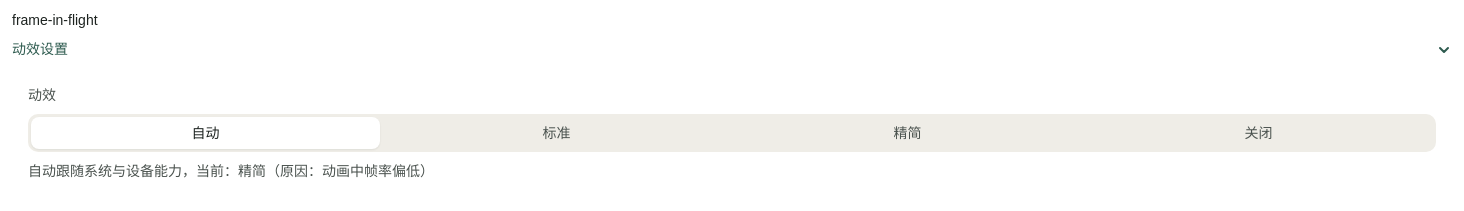
Test: MotionProvider in-flight lifetime › preserves the completed automatic result across manual full and automatic reset
The width and height of the screenshot is (1464, 211).
Click the radio button labelled "标准".
click(556, 133)  # box top-left (382, 117), bottom-right (731, 149)
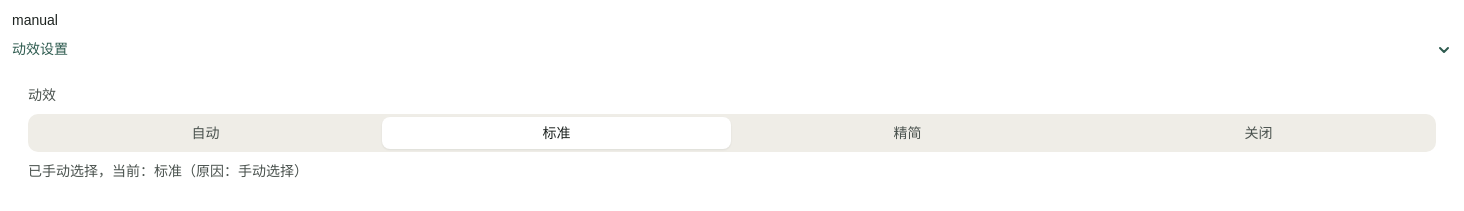
Result: the text "manual" is shown at top-left (12, 12), bottom-right (58, 28)
Result: the text "已手动选择，当前：标准（原因：手动选择）" is shown at top-left (28, 163), bottom-right (308, 179)
Click the radio button labelled "自动".
click(206, 133)  # box top-left (31, 117), bottom-right (380, 149)
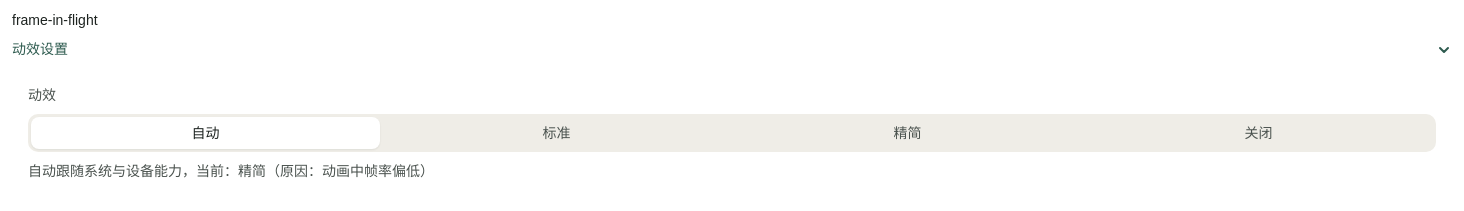
Result: the text "frame-in-flight" is shown at top-left (12, 12), bottom-right (98, 28)
Result: the text "自动跟随系统与设备能力，当前：精简（原因：动画中帧率偏低）" is shown at top-left (28, 163), bottom-right (434, 179)
